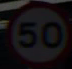Speed limit: (4, 4, 66, 58)
